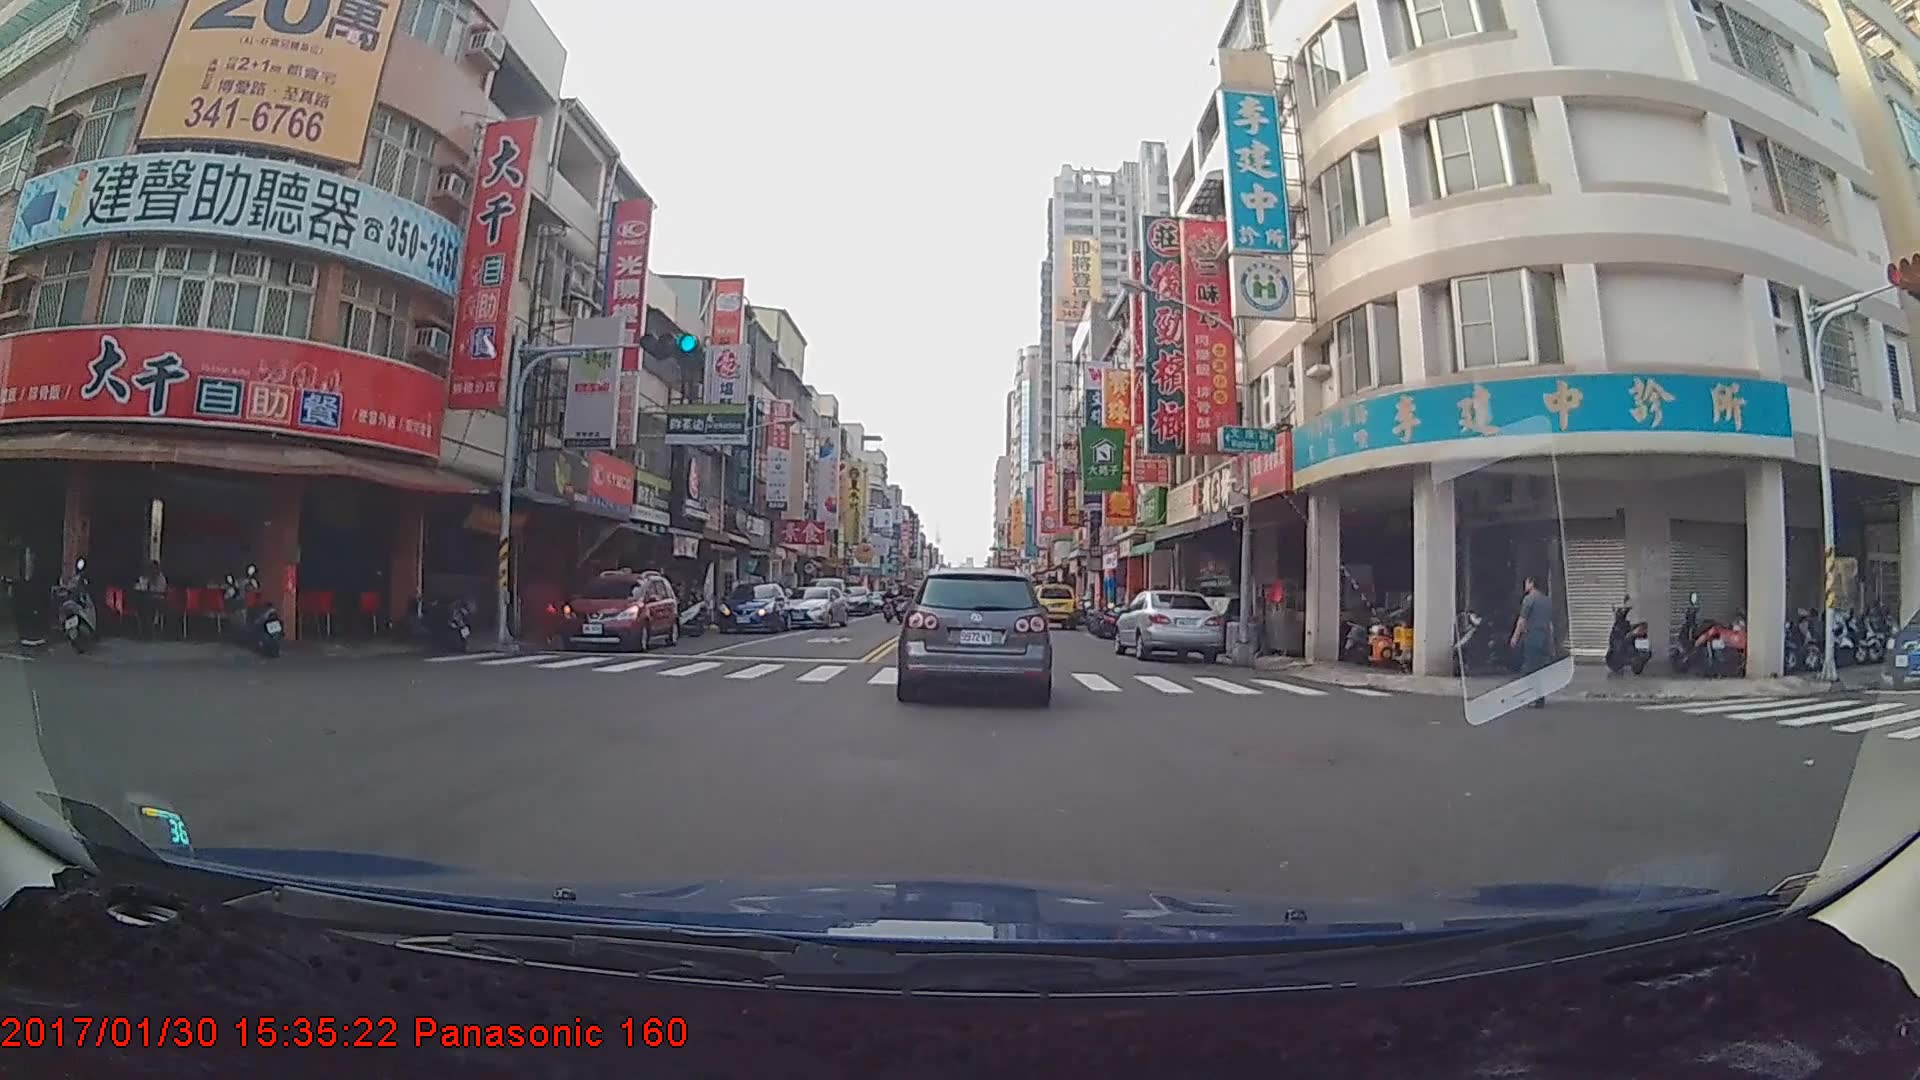pedestrian: (1515, 573, 1562, 715)
vehicle: (895, 567, 1052, 704), (561, 571, 678, 652), (1116, 588, 1228, 664), (716, 583, 792, 634), (780, 581, 849, 631), (1030, 582, 1077, 632)
